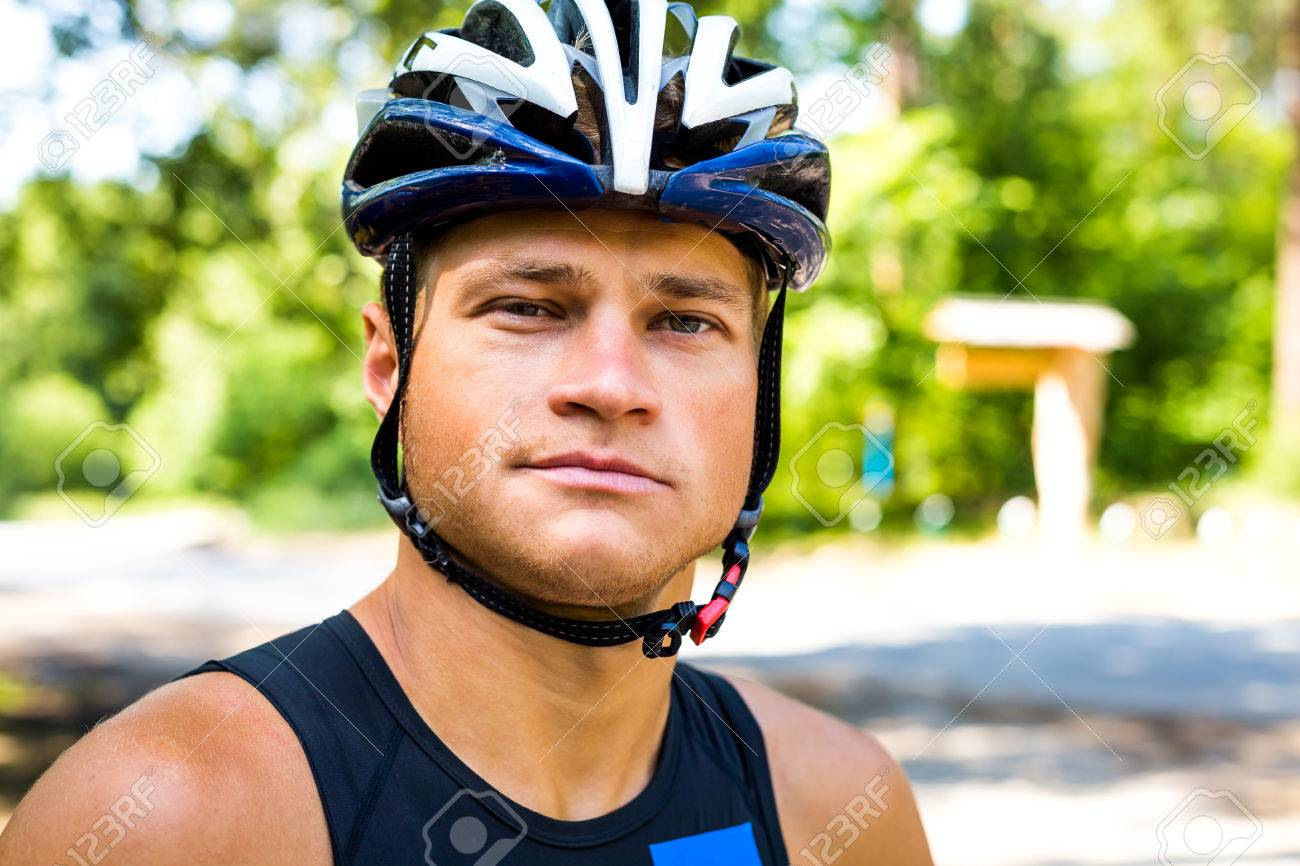helmet: (342, 1, 830, 609)
